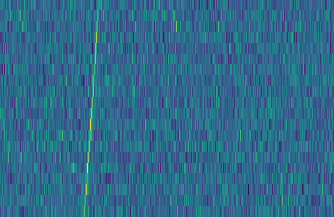signal: (78, 0, 102, 217)
